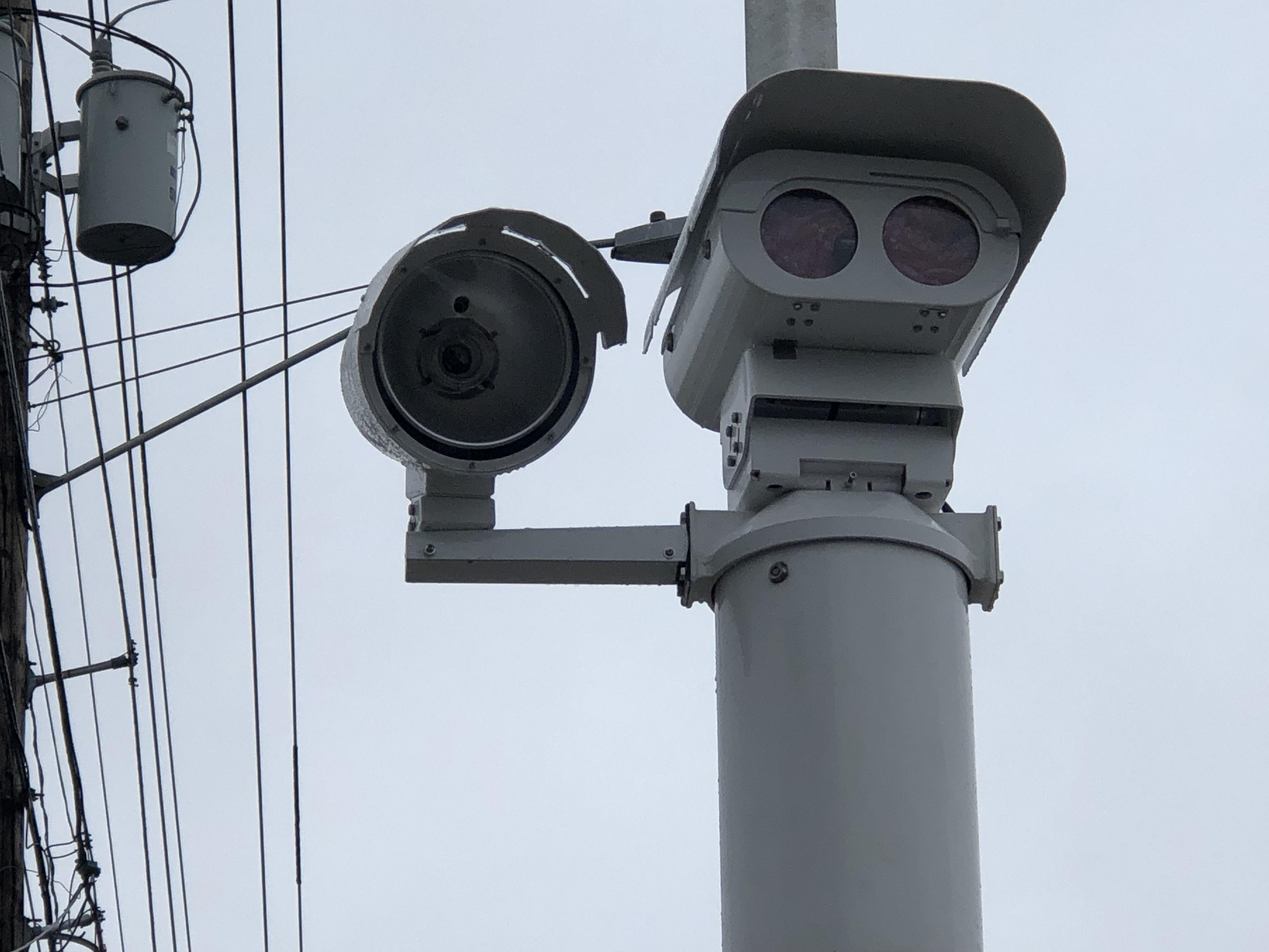Monitor: (605, 29, 1029, 523), (341, 174, 651, 584)
